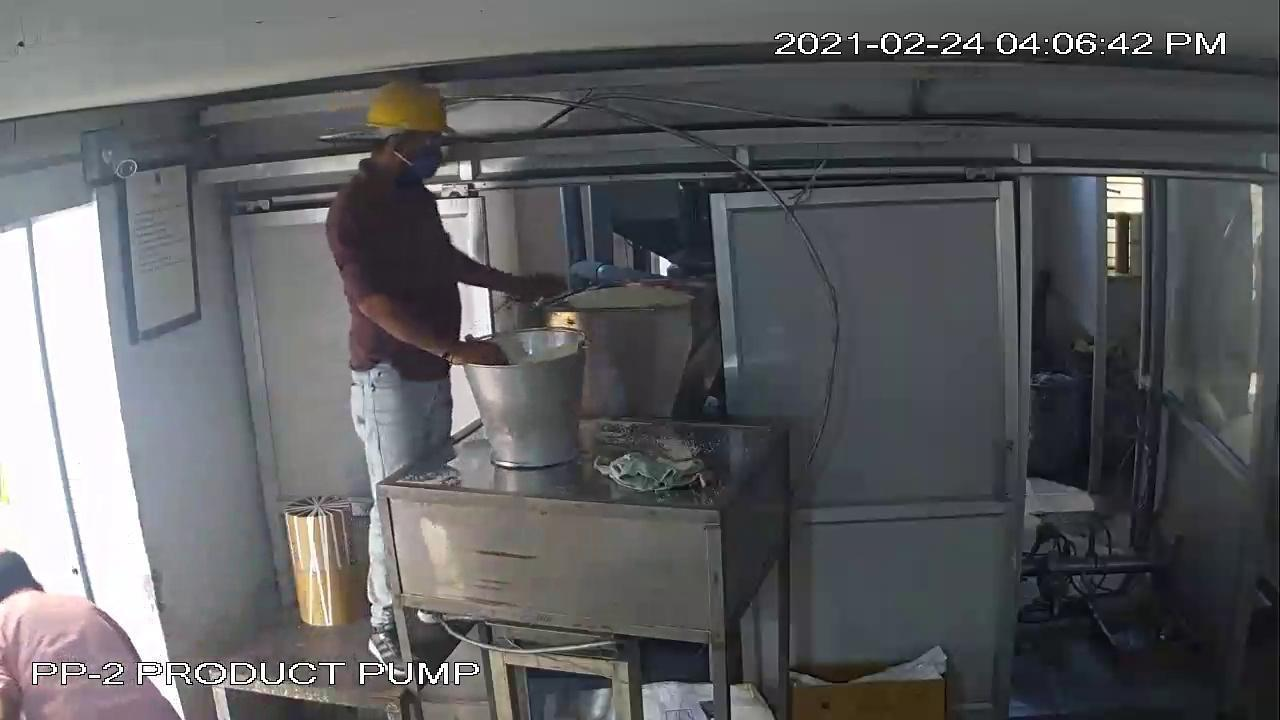helmet: (349, 70, 469, 148)
